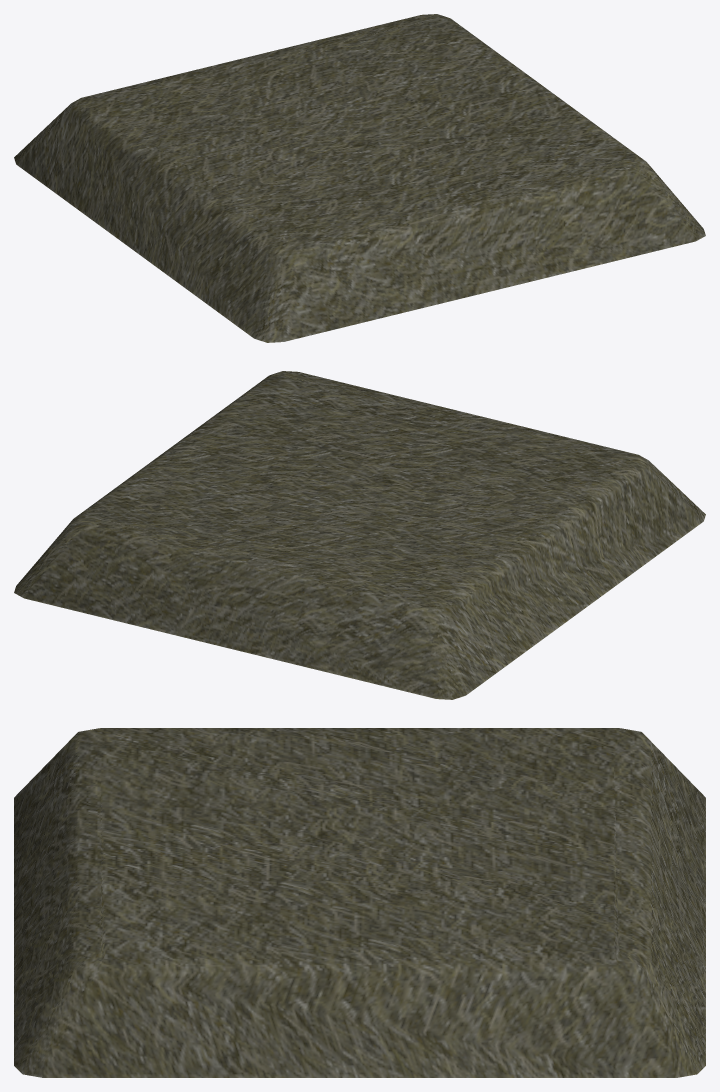
Rendered from sb_obj_outdoor028_house02_roof_b.fbx.
3 renders of one model, top to bottom at view 1: azimuth 30°, elevation 25°; view 2: azimuth 150°, elevation 25°; view 3: azimuth 270°, elevation 25°, orthographic. The views are drawn at different scales.
Parts seen in each view (by area): view 1: sb_obj_outdoor028_house02_roof_b; view 2: sb_obj_outdoor028_house02_roof_b; view 3: sb_obj_outdoor028_house02_roof_b.
Boxes of the visible parts, x1,y1,x2,y2 form: sb_obj_outdoor028_house02_roof_b: (14,14,705,342); sb_obj_outdoor028_house02_roof_b: (14,371,705,699); sb_obj_outdoor028_house02_roof_b: (14,728,705,1077).
Size of the model in its own units: 3.6 by 0.4999 by 3.6.
